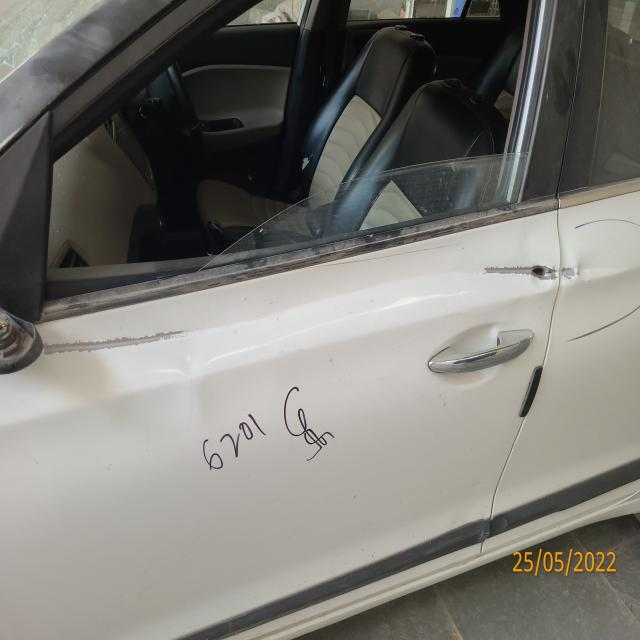damage: (40, 316, 193, 379), (477, 257, 557, 292), (563, 245, 614, 293)
